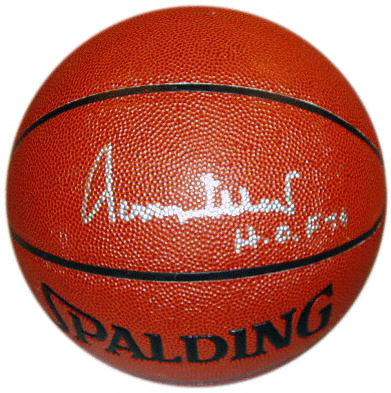basketball: (5, 6, 388, 386)
